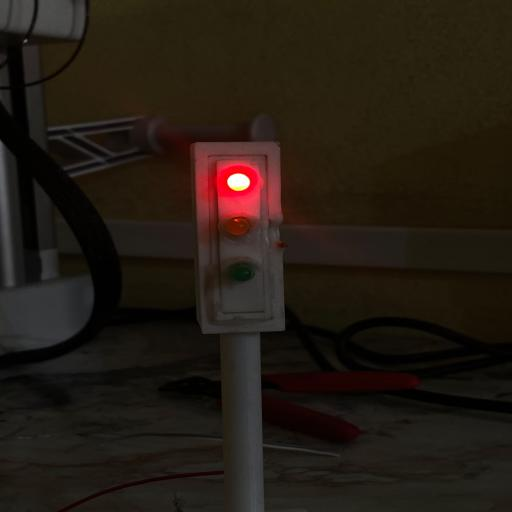Red Light: (218, 165, 262, 197), (227, 173, 250, 191)
